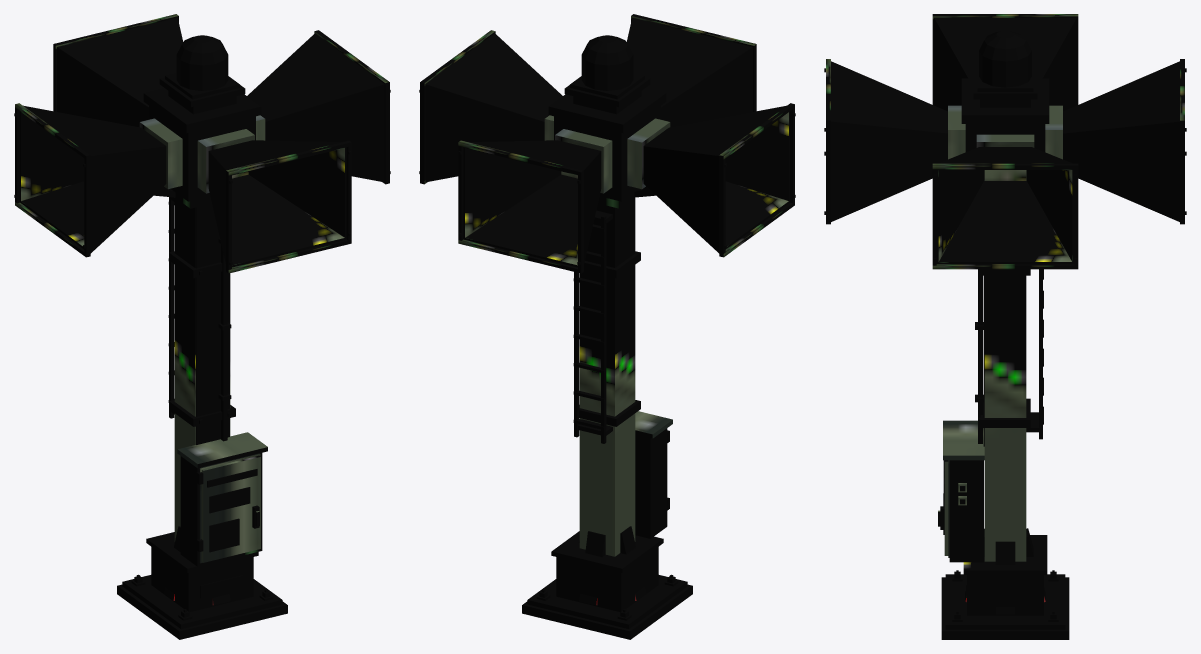
The picture shows the model from 3 angles, left to right: view 1: azimuth 30°, elevation 25°; view 2: azimuth 150°, elevation 25°; view 3: azimuth 270°, elevation 25°; orthographic projection. The views are drawn at different scales.
Visible parts, largest first — view 1: horn_left_hollow_flare, horn_front_hollow_flare, horn_right_hollow_flare, horn_back_hollow_flare, mast_front_highlight, main_mast, cabinet_door_panel, raised_base_plinth, steel_foundation_plate, red_beacon_dome, head_top_cap, head_hub (+23 smaller); view 2: main_mast, horn_left_hollow_flare, horn_back_hollow_flare, horn_right_hollow_flare, horn_front_hollow_flare, raised_base_plinth, steel_foundation_plate, red_beacon_dome, head_top_cap, head_hub, concrete_footing, cabinet_rear (+20 smaller); view 3: horn_right_hollow_flare, horn_front_hollow_flare, horn_back_hollow_flare, main_mast, horn_left_hollow_flare, steel_foundation_plate, raised_base_plinth, cabinet_right_wall, red_beacon_dome, head_top_cap, concrete_footing, cabinet_roof (+14 smaller).
Part boxes in pixels (<box>): horn_left_hollow_flare: <box>20,105,166,253</box>; horn_front_hollow_flare: <box>208,140,346,267</box>; horn_right_hollow_flare: <box>247,33,384,182</box>; horn_back_hollow_flare: <box>57,17,183,127</box>; mast_front_highlight: <box>195,203,229,444</box>; main_mast: <box>174,197,230,541</box>; cabinet_door_panel: <box>201,455,260,562</box>; raised_base_plinth: <box>151,547,253,612</box>; steel_foundation_plate: <box>122,575,282,628</box>; red_beacon_dome: <box>176,35,228,90</box>; head_top_cap: <box>143,88,261,132</box>; head_hub: <box>149,106,255,201</box>; main_mast: <box>579,197,635,556</box>; horn_left_hollow_flare: <box>643,105,789,253</box>; horn_back_hollow_flare: <box>463,140,601,267</box>; horn_right_hollow_flare: <box>425,33,562,182</box>; horn_front_hollow_flare: <box>626,17,752,127</box>; raised_base_plinth: <box>556,547,658,612</box>; steel_foundation_plate: <box>527,575,687,628</box>; red_beacon_dome: <box>581,35,633,90</box>; head_top_cap: <box>548,88,666,132</box>; head_hub: <box>554,106,660,201</box>; concrete_footing: <box>522,584,692,639</box>; cabinet_rear: <box>635,434,653,538</box>; horn_right_hollow_flare: <box>936,147,1074,264</box>; horn_front_hollow_flare: <box>831,61,947,221</box>; horn_back_hollow_flare: <box>1063,61,1179,221</box>; main_mast: <box>984,275,1026,561</box>; horn_left_hollow_flare: <box>934,17,1076,111</box>; steel_foundation_plate: <box>945,574,1065,629</box>; raised_base_plinth: <box>967,575,1043,615</box>; cabinet_right_wall: <box>949,460,978,562</box>; red_beacon_dome: <box>979,30,1031,87</box>; head_top_cap: <box>961,78,1049,123</box>; concrete_footing: <box>941,577,1069,639</box>; cabinet_roof: <box>943,420,984,460</box>.
Size of the model in its own units: 2.83 by 4.99 by 2.83.
